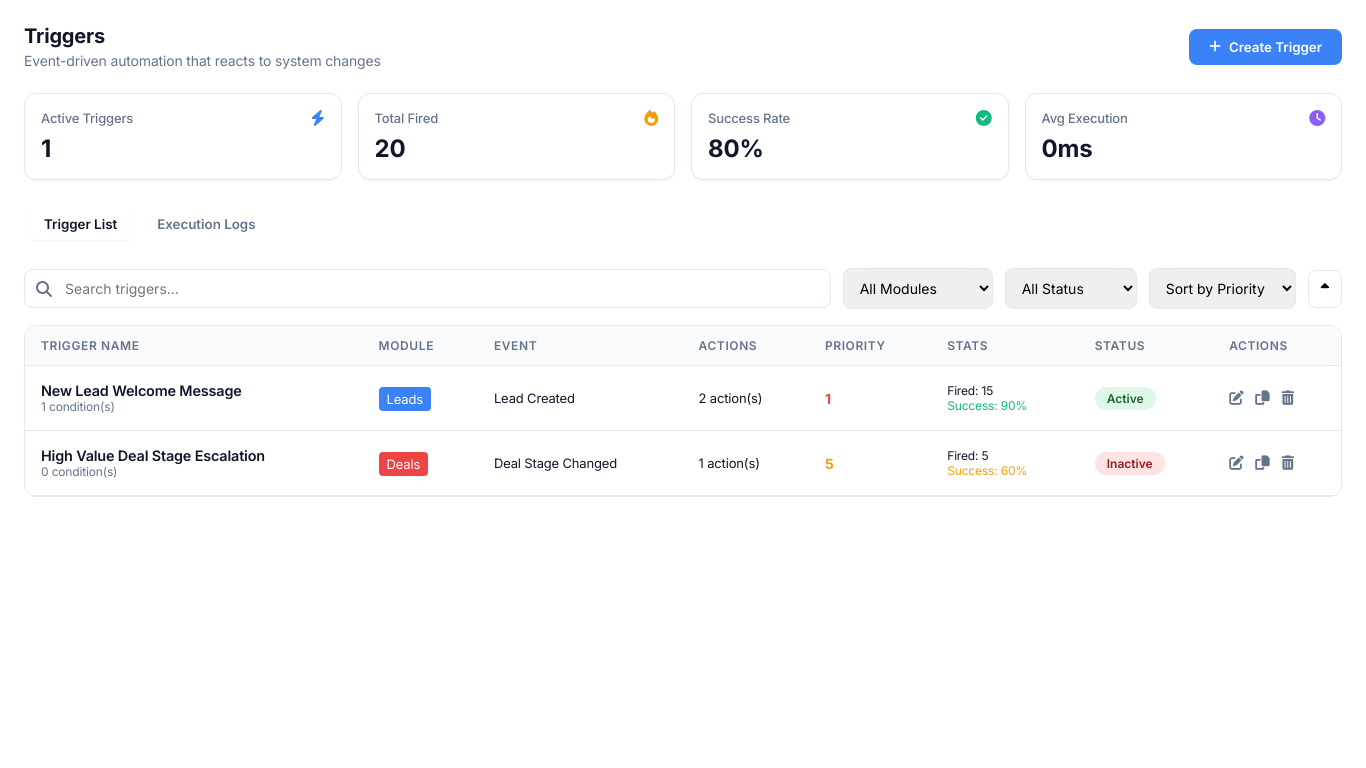
Test case: TriggersSettingsPage with DataTable › renders empty state when no execution logs exist
Click the button "Execution Logs": (206,224) [141,208,272,240]
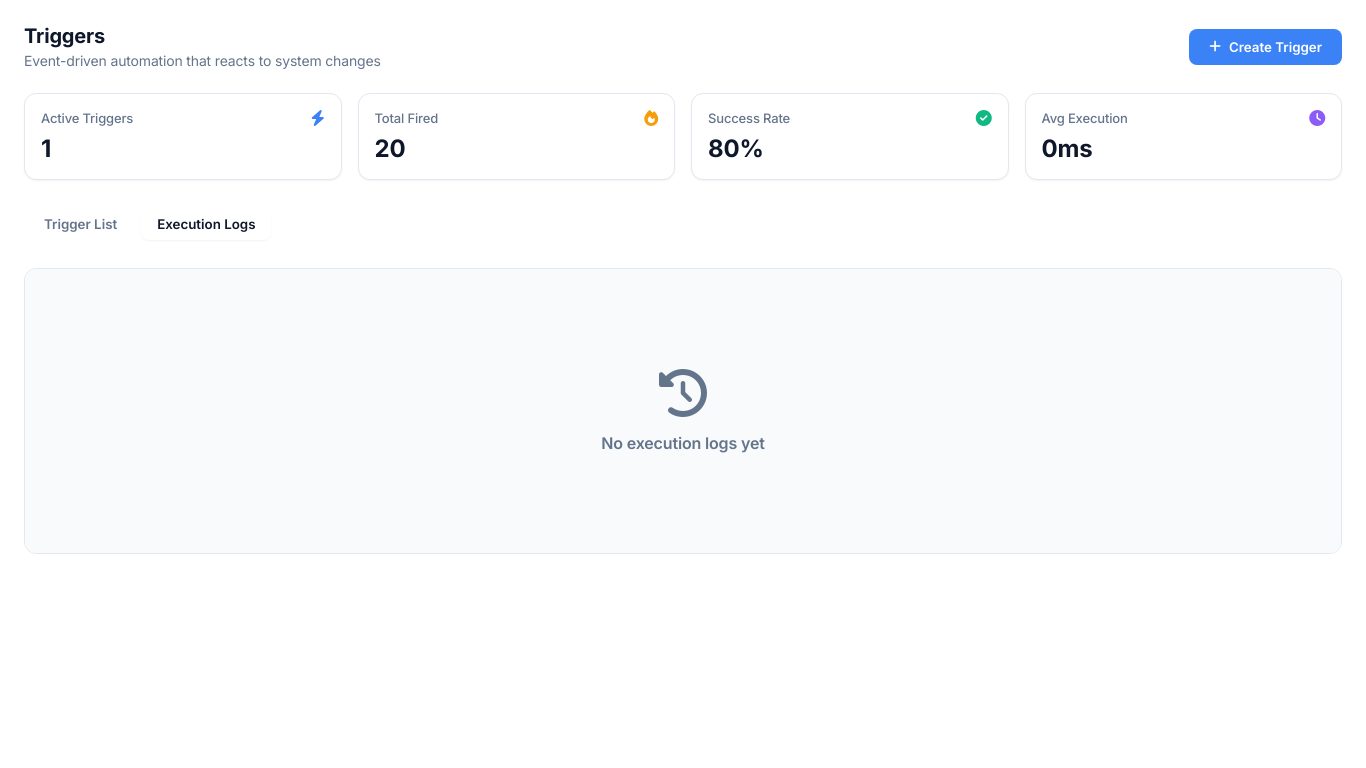
Now the text "No execution logs yet" is shown, box [601,433,765,453]
